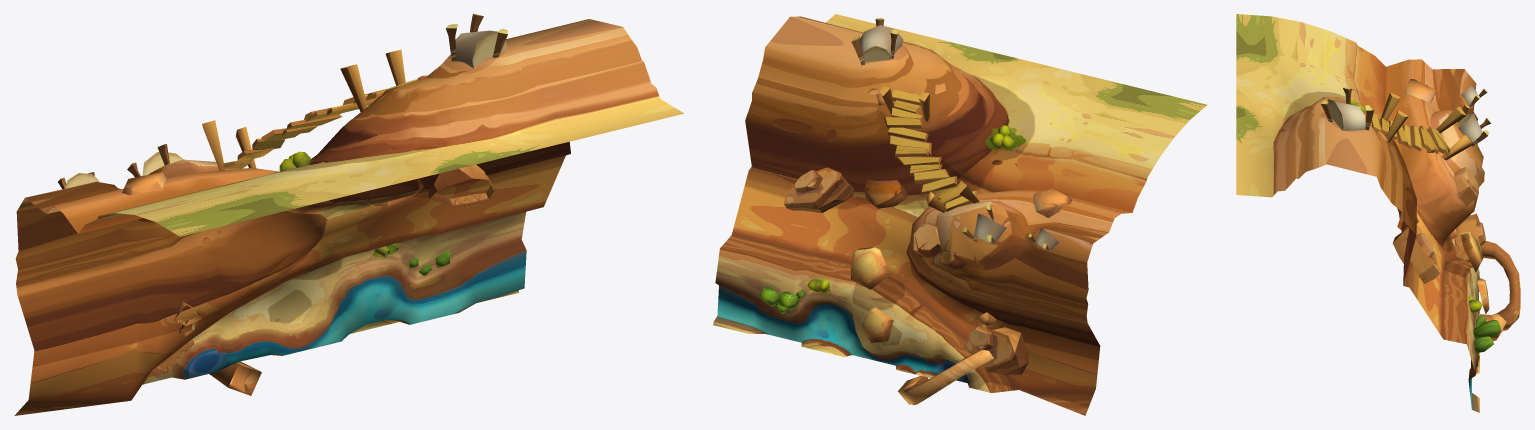
File: Chapter1Model4.FBX
3 views of the same model, side by side, from view 1: azimuth 30°, elevation 25°; view 2: azimuth 150°, elevation 25°; view 3: azimuth 270°, elevation 25° (orthographic). The views are drawn at different scales.
Visible parts, largest first — view 1: Chapter1Model4Model1, Chapter1Model4Model2; view 2: Chapter1Model4Model1, Chapter1Model4Model2; view 3: Chapter1Model4Model1, Chapter1Model4Model2.
Part boxes in pixels (x1,y1,x2,y2): Chapter1Model4Model1: (14,19,684,415); Chapter1Model4Model2: (58,14,507,395); Chapter1Model4Model1: (713,14,1207,415); Chapter1Model4Model2: (759,18,1071,405); Chapter1Model4Model1: (1236,14,1484,412); Chapter1Model4Model2: (1321,79,1520,353).
Bounding box in the file's own units: 970 × 644 × 744.
